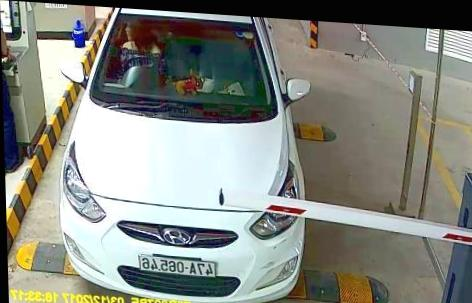License_Plate: (138, 250, 218, 279)
